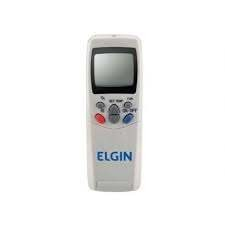remote control: (90, 37, 143, 193)
